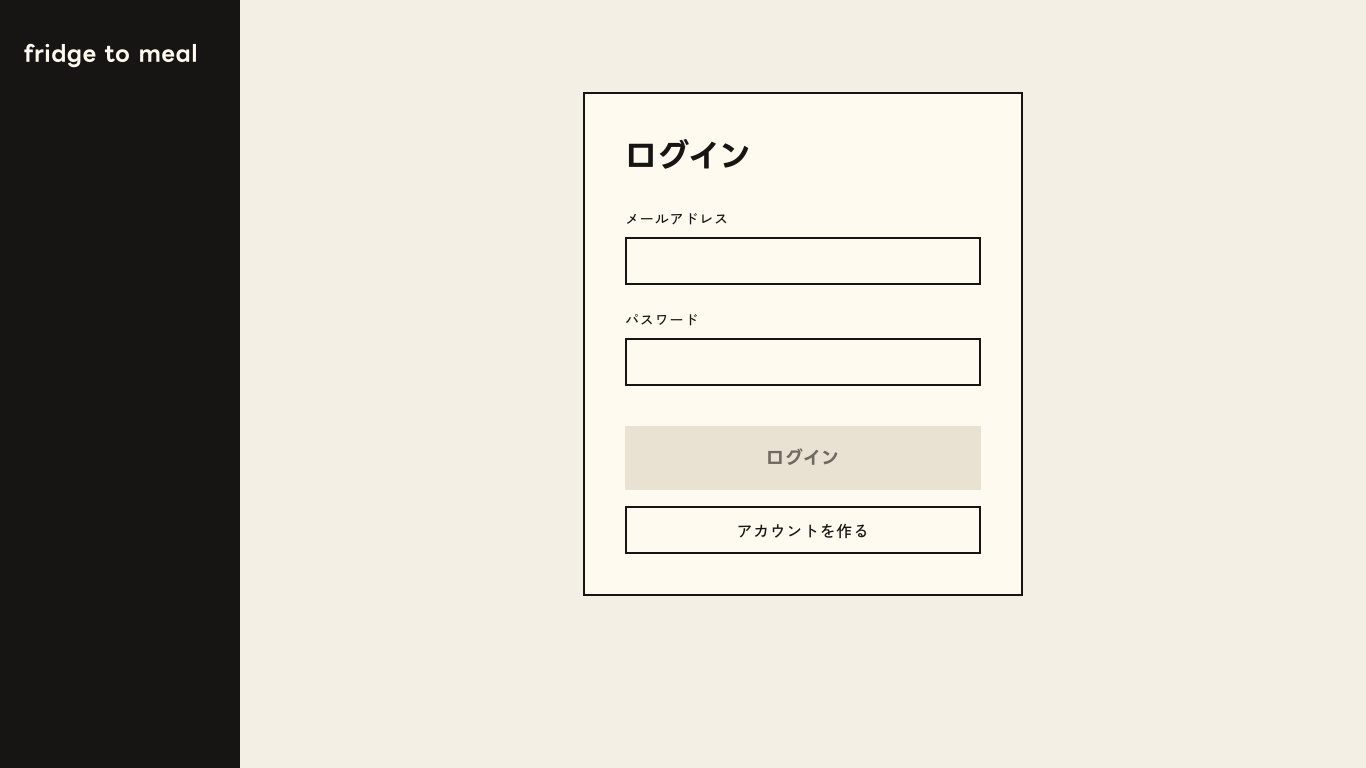
ログイン／作成の出し分け SignedOutScreen › 作成画面のログイン画面へ戻る操作でログインの画面に戻り、アカウントを作る操作に焦点がある
This screenshot has width=1366, height=768.
Click the button "アカウントを作る" at (803, 530), box [625,506,981,554]
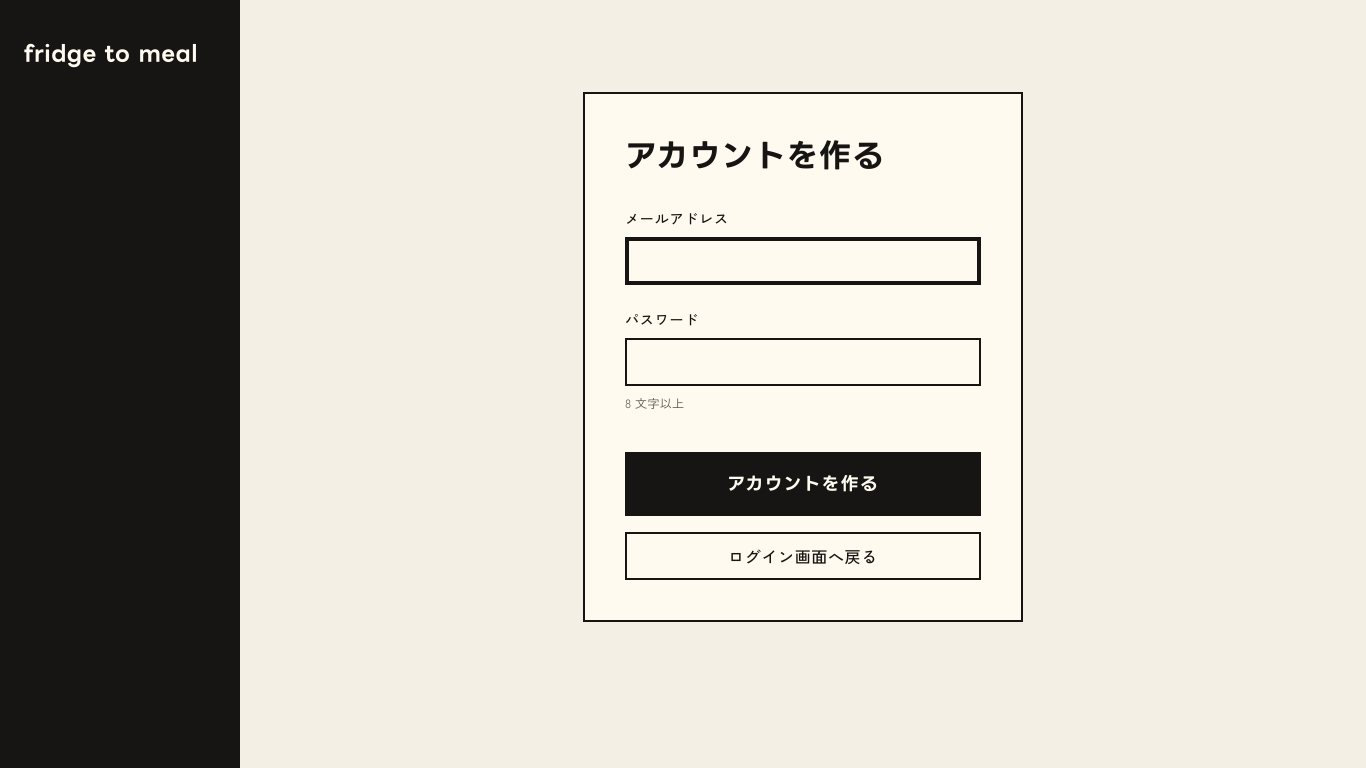
Click the button "ログイン画面へ戻る" at (803, 556), box [625,532,981,580]
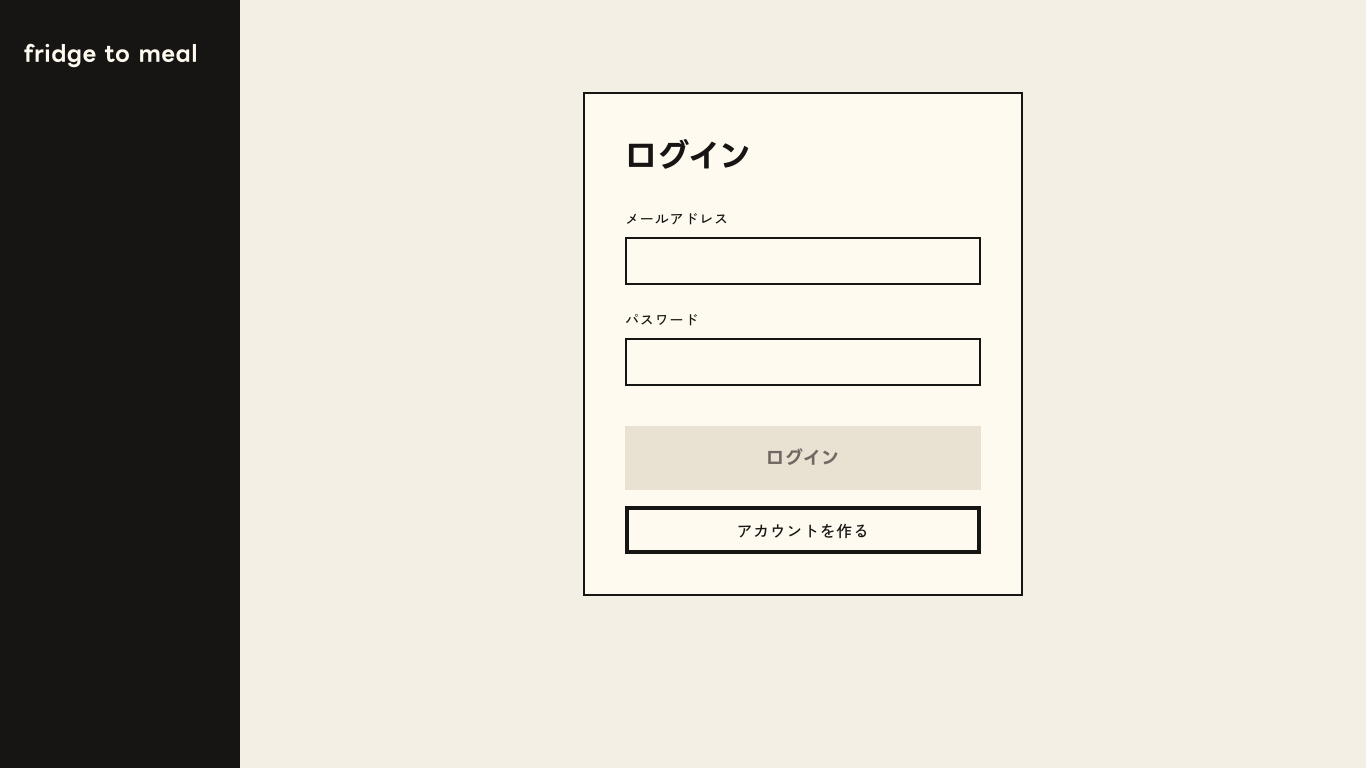
Now the heading reads "ログイン", box [625,137,752,172]
